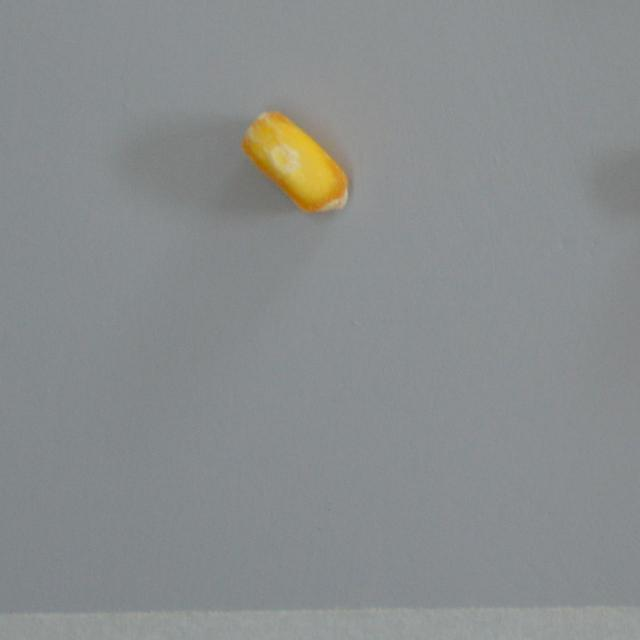pelicula: (241, 110, 350, 212)
